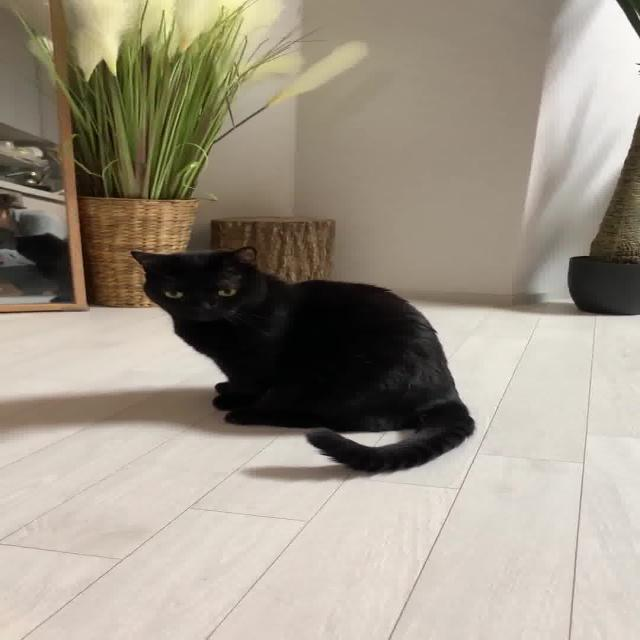cat: (110, 240, 498, 487)
